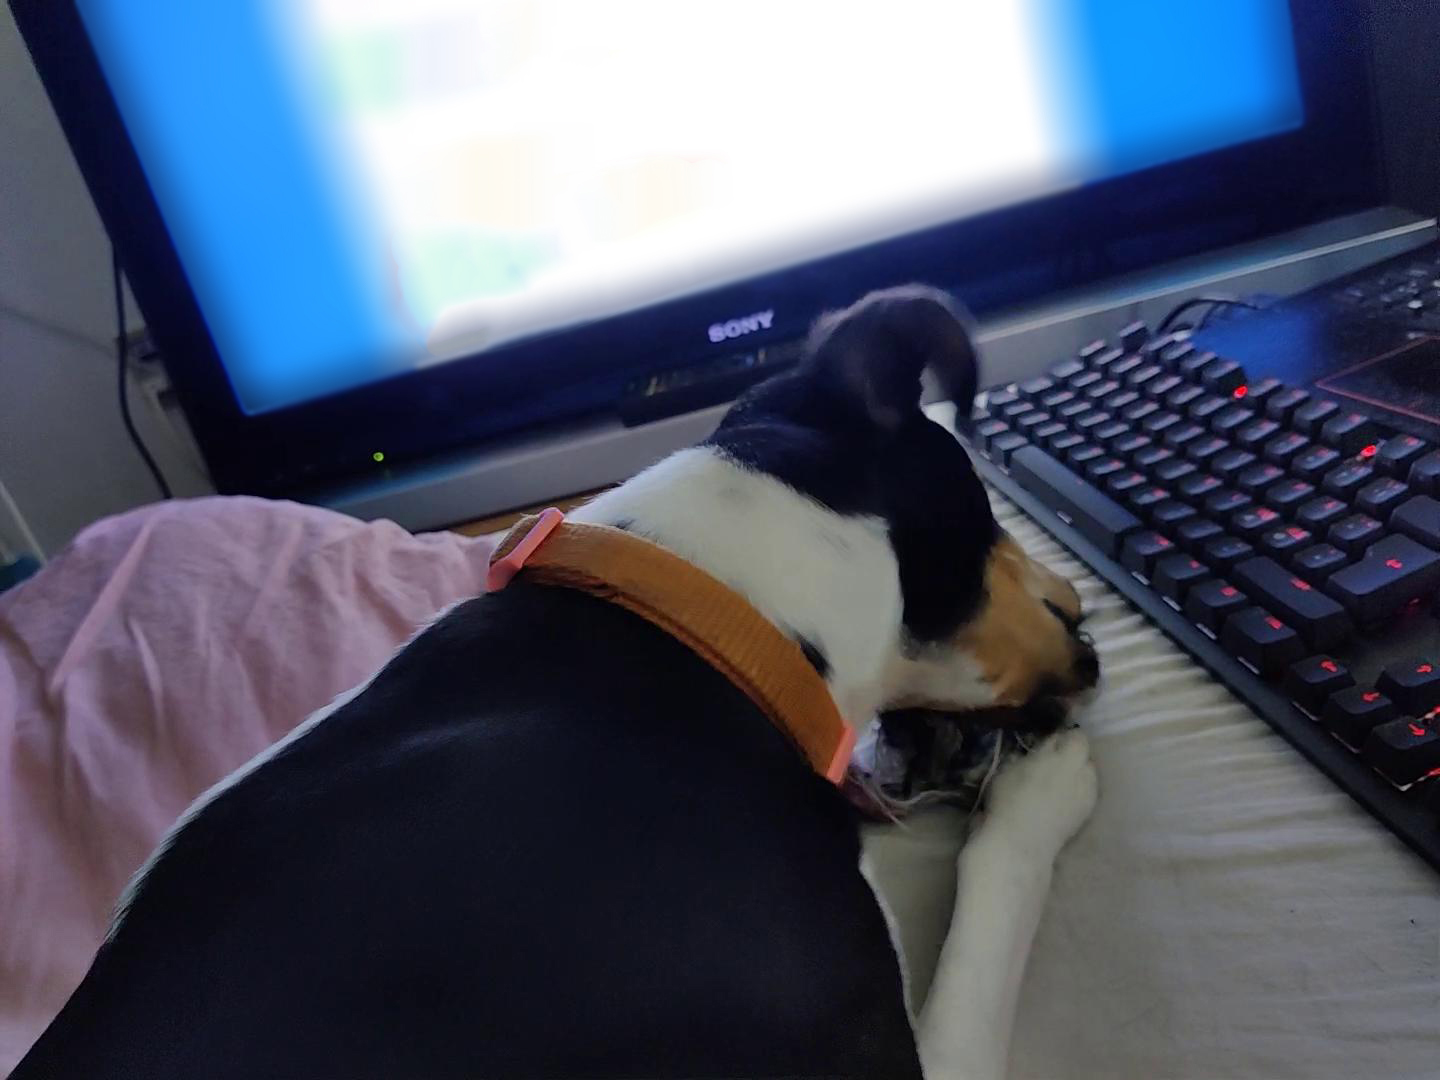Dog: (0, 278, 1098, 1079)
